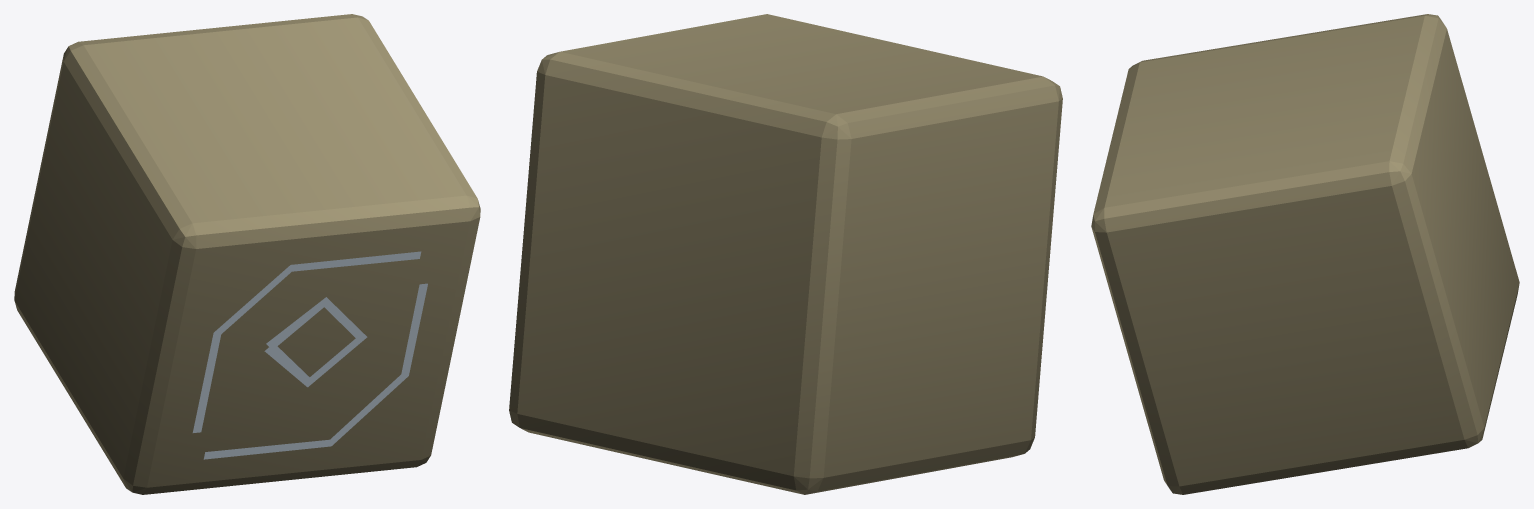
File: 2066_StonePellets_Projectile.fbx
The picture shows the model from 3 angles, left to right: view 1: azimuth 30°, elevation 25°; view 2: azimuth 150°, elevation 25°; view 3: azimuth 270°, elevation 25°; orthographic projection. The views are drawn at different scales.
Parts seen in each view (by area): view 1: PART_HypostasisBevelledShell, PART_ShellAngularInlay_0, PART_ShellAngularInlay_1, PART_ShellAngularInlay_2; view 2: PART_HypostasisBevelledShell; view 3: PART_HypostasisBevelledShell.
Part boxes in pixels (box(x1,y1,x2,y2)): PART_HypostasisBevelledShell: box(14, 14, 480, 494); PART_ShellAngularInlay_0: box(192, 251, 421, 432); PART_ShellAngularInlay_1: box(203, 283, 427, 459); PART_ShellAngularInlay_2: box(264, 297, 367, 387); PART_HypostasisBevelledShell: box(509, 14, 1062, 494); PART_HypostasisBevelledShell: box(1091, 14, 1519, 494).
Bounding box in the file's own units: 115 × 125 × 129.
